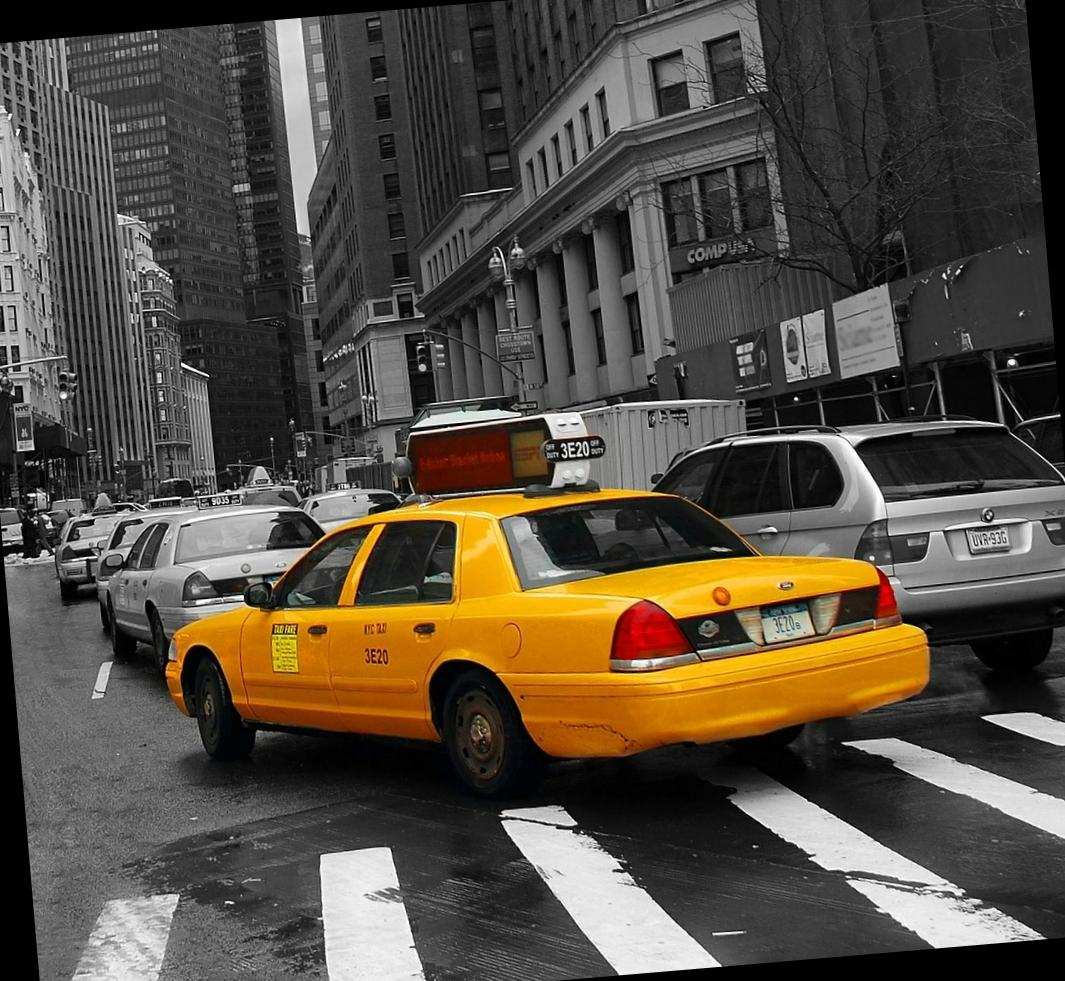taxi: (158, 491, 933, 791)
